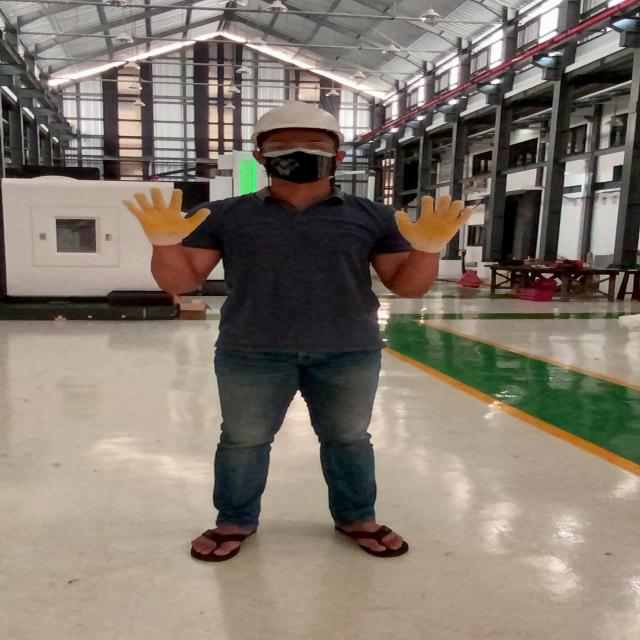face_mask: (254, 138, 341, 185)
glasses: (255, 139, 343, 156)
hand_glove: (117, 185, 221, 247), (385, 193, 476, 254)
head_helmet: (248, 100, 344, 138)
person: (119, 98, 485, 580)
